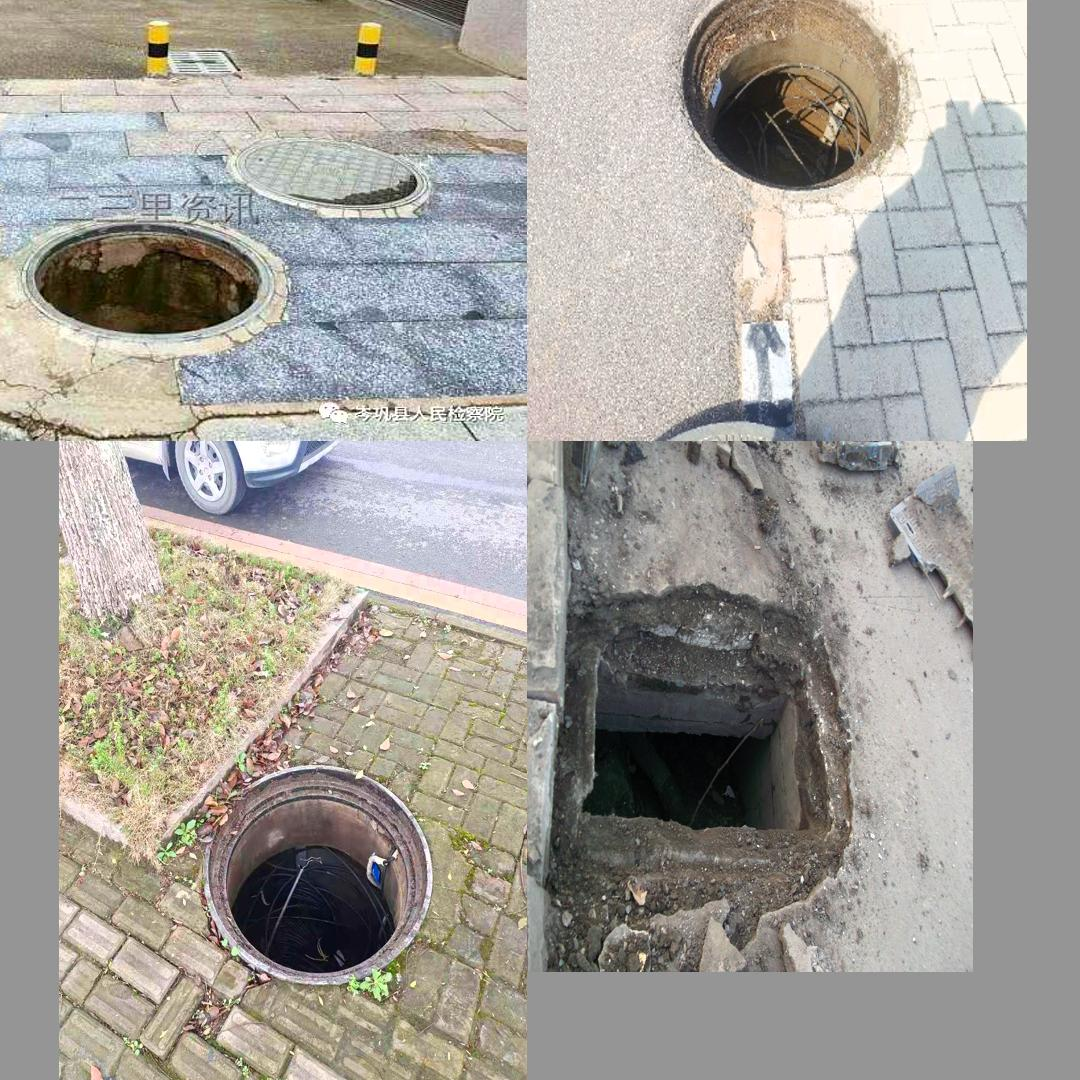lose: (201, 765, 431, 985), (678, 0, 912, 191), (579, 655, 807, 834), (12, 209, 290, 350)
